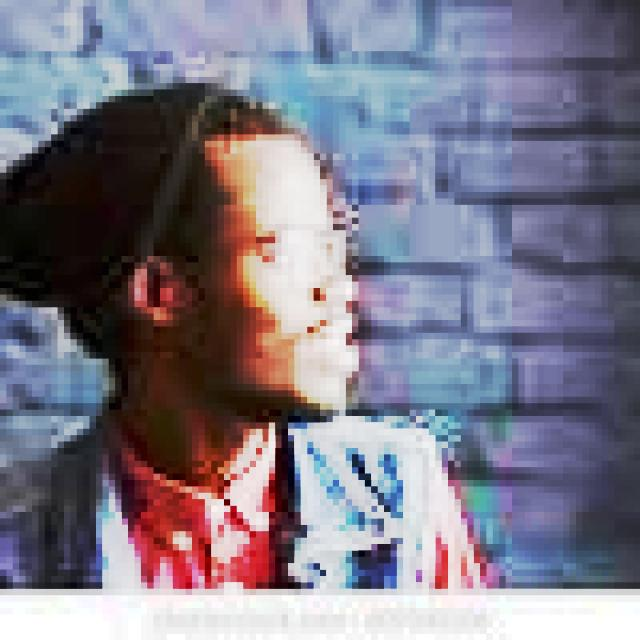TOPI: (0, 70, 205, 308)
